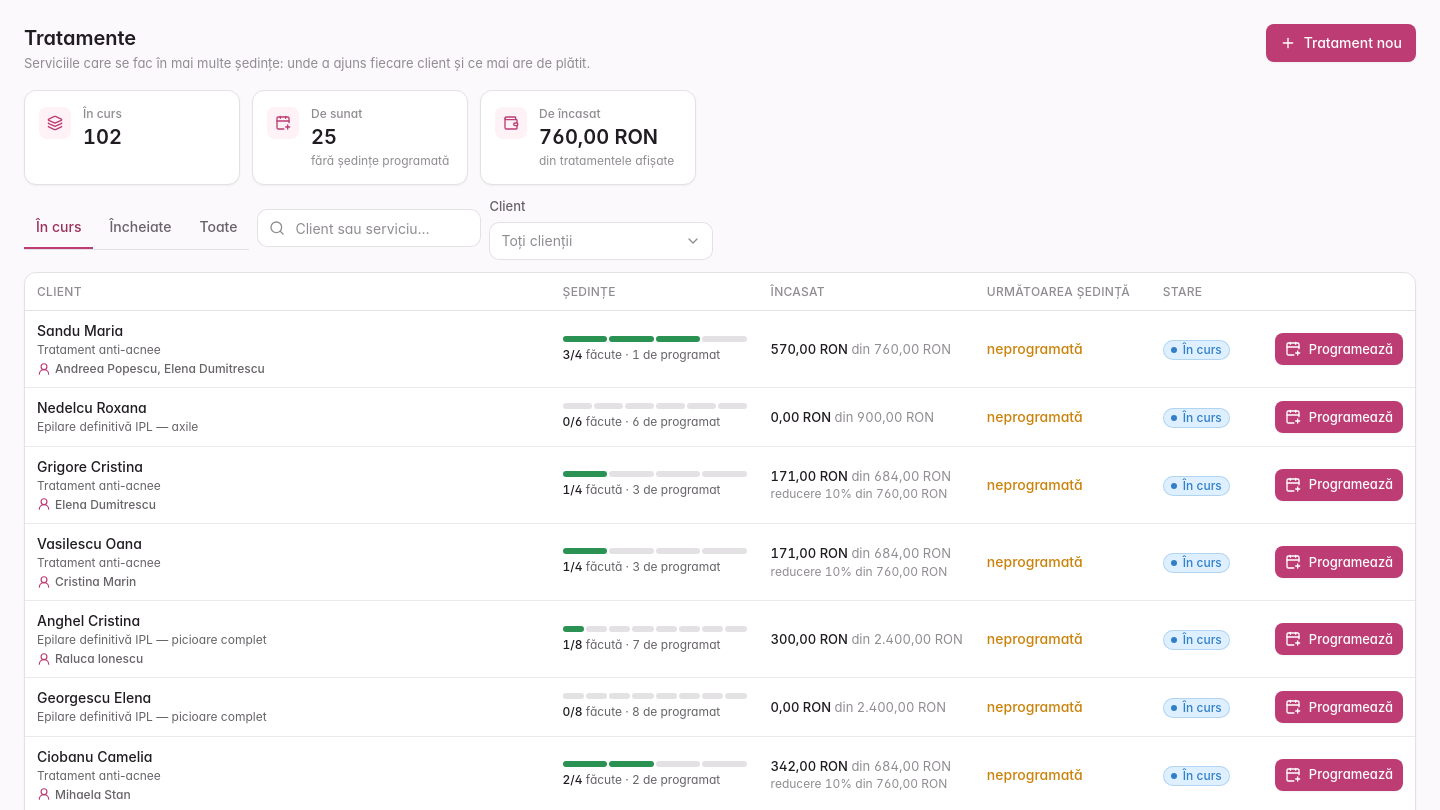
Test: ecranul de tratamente › „Programează” deschide formularul cu clientul și serviciul fixate și spune a câta ședință e
Click the 1st button "Programează" at coordinates (1339, 349), box [1275,333,1403,365]
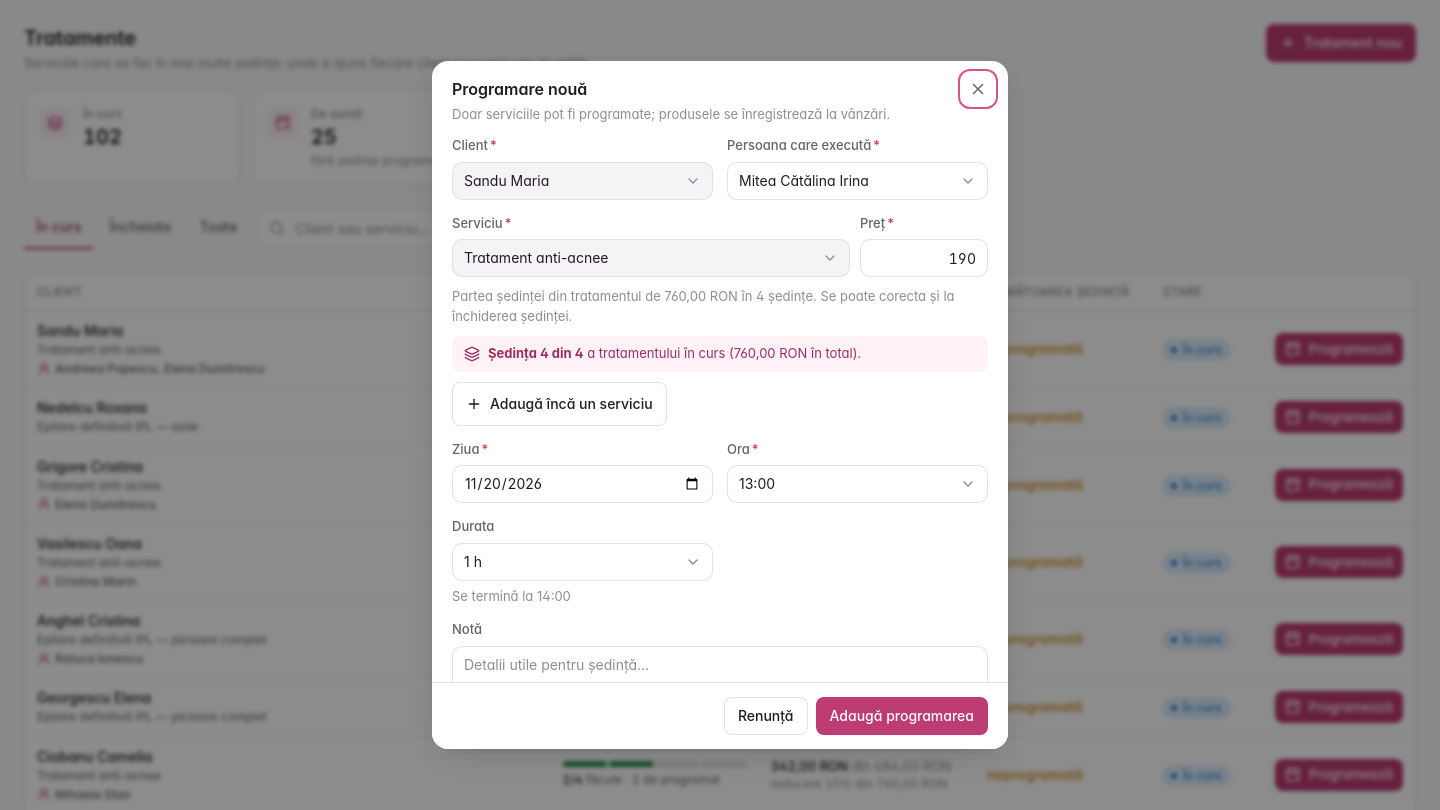
Now the dropdown named "Serviciu" reads "Tratament anti-acnee", box [452,239,850,277]
Now the dropdown named "Client" is disabled, box [452,162,713,200]
Now the field labelled "Preț*" holds "190", box [860,239,988,277]
